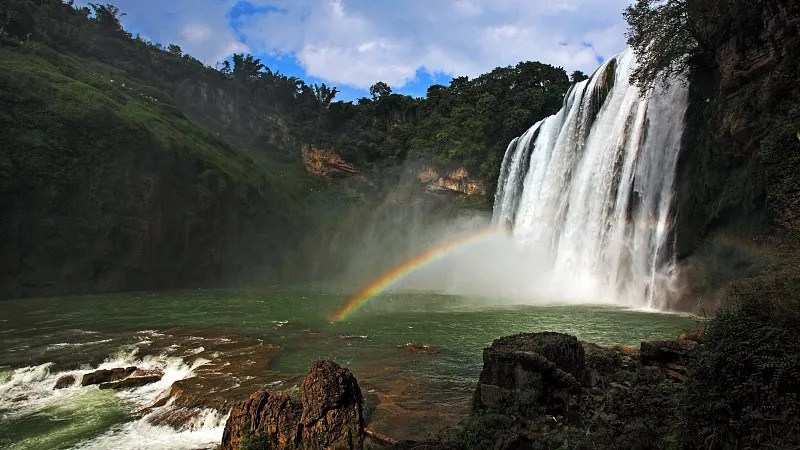Huangguoshu: (486, 45, 689, 312)
